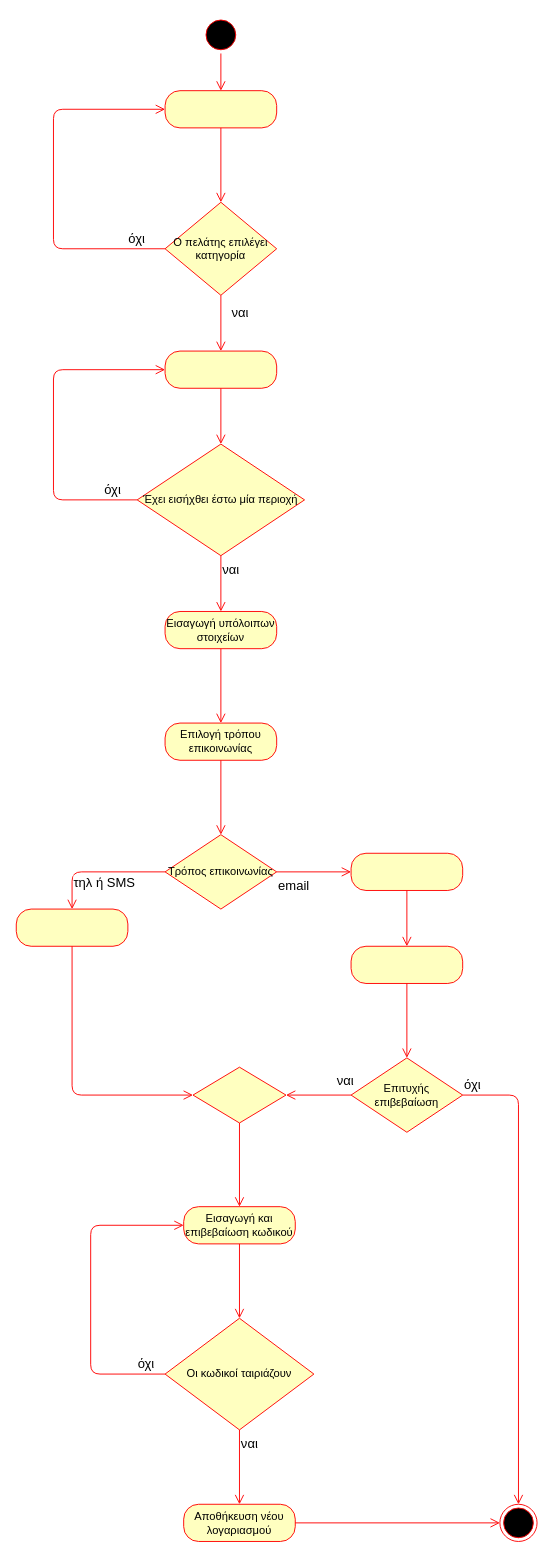
This 553x1558 diagram has some shape labels left out. The centre of each missing label's shape, as x and y in pixels:
"Αποστολή Email επιβεβαίωσης" goes at [406,871].
"Εισαγωγή περιοχών" goes at [220,369].
"Εισαγωγή τηλεφώνου" goes at [71,927].
"Επιβεβαίωση email" goes at [406,964].
"Επιλογή κατηγορίας - ειδικότητας" goes at [220,109].
